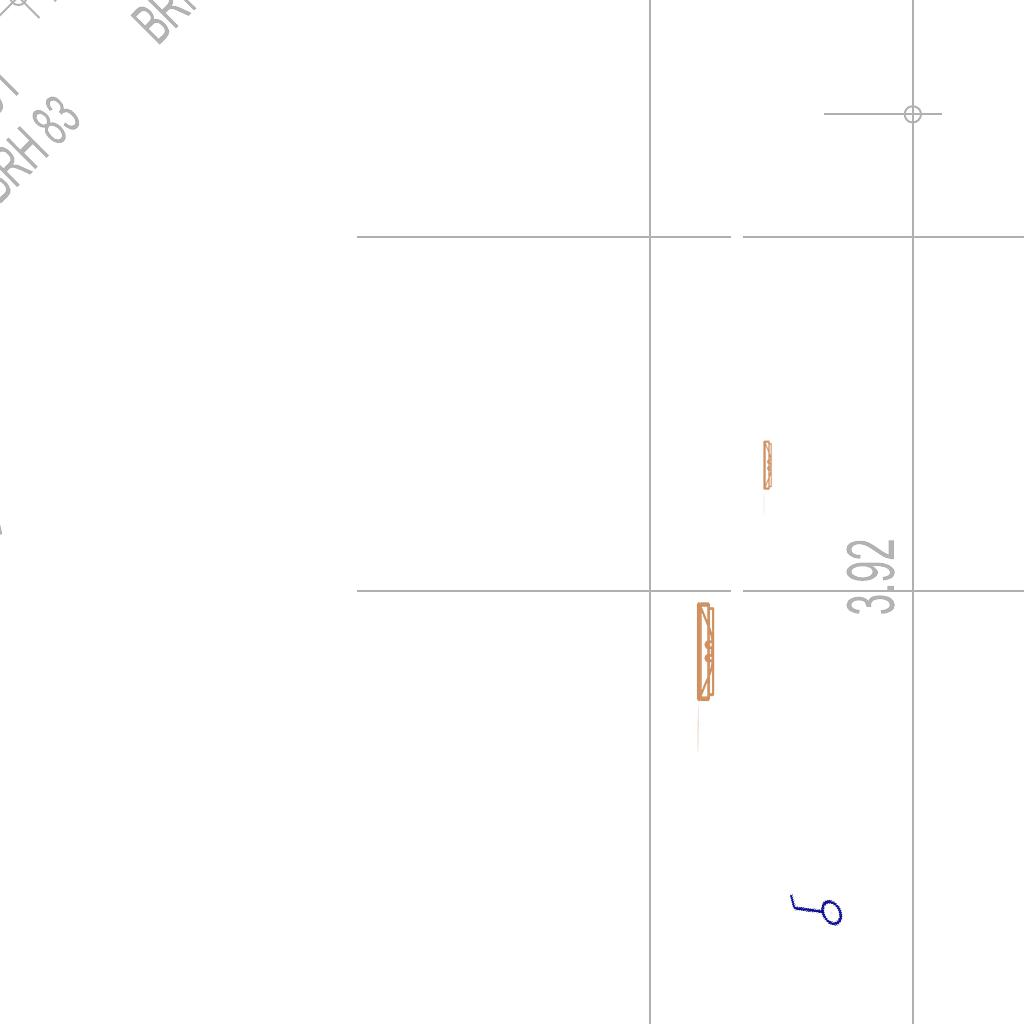Ausschalter: (781, 875, 851, 947)
Sicherheitsleuchte_Wandeinbau: (694, 597, 719, 756), (762, 438, 774, 517)
